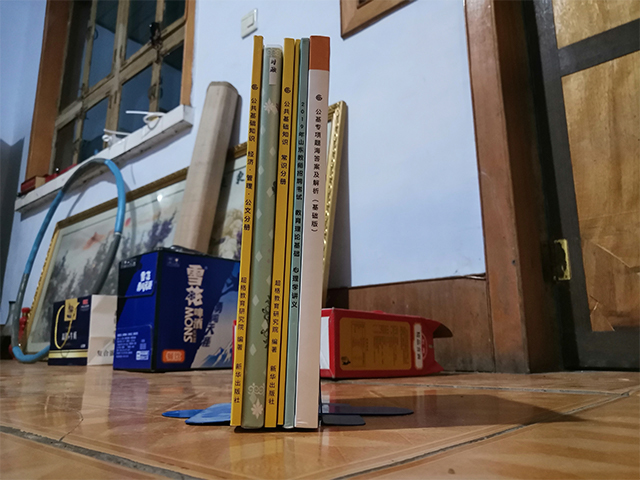book: (227, 31, 332, 433)
